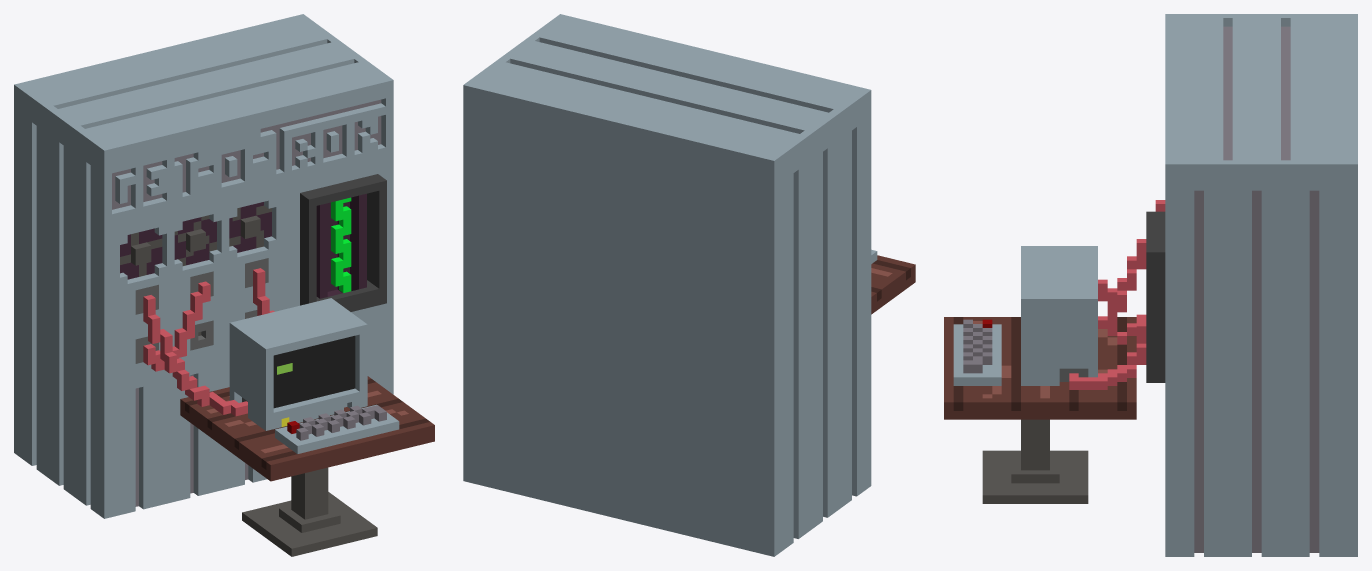
Rendered from Terminal.2.dae.
3 renders of one model, left to right at view 1: azimuth 30°, elevation 25°; view 2: azimuth 150°, elevation 25°; view 3: azimuth 270°, elevation 25°, orthographic. The views are drawn at different scales.
Parts seen in each view (by area): view 1: Terminal2; view 2: Terminal2; view 3: Terminal2.
Boxes of the visible parts, x1,y1,x2,y2 form: Terminal2: (14,14,434,556); Terminal2: (463,14,915,556); Terminal2: (944,14,1357,556).
Bounding box in the file's own units: 37 × 43 × 45.
1 material, 1 textured.
